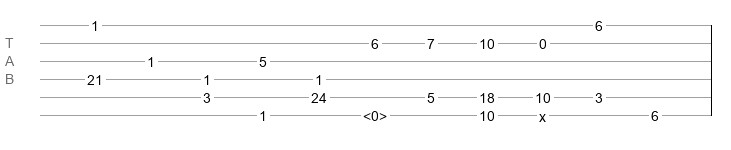0: (539, 36, 547, 46)
1: (91, 18, 99, 28), (147, 54, 155, 64), (203, 72, 211, 82), (259, 108, 267, 118), (315, 72, 323, 82)
10: (479, 36, 495, 46), (479, 108, 495, 118), (535, 90, 551, 100)
18: (479, 90, 495, 100)
21: (87, 72, 103, 82)
24: (311, 90, 327, 100)
3: (203, 90, 211, 100), (595, 90, 603, 100)
5: (259, 54, 267, 64), (427, 90, 435, 100)
6: (371, 36, 379, 46), (595, 18, 603, 28), (651, 108, 659, 118)
7: (427, 36, 435, 46)
harmonic: (363, 108, 387, 118)
x: (539, 109, 546, 117)
